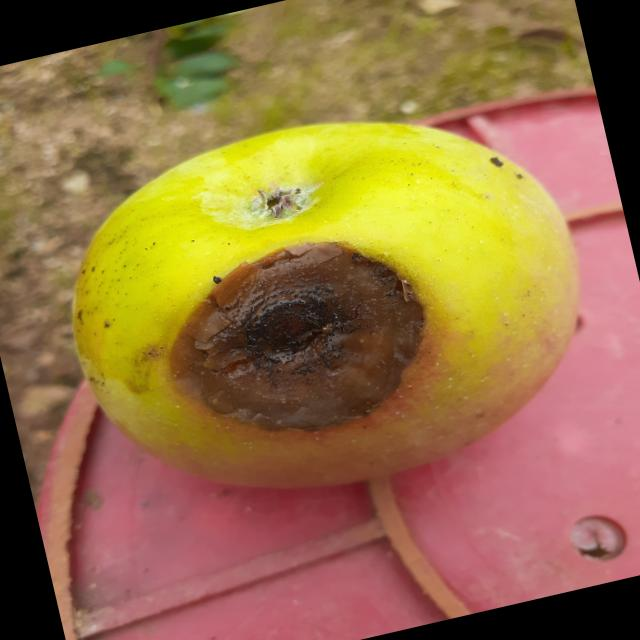rotten: (13, 57, 640, 560)
